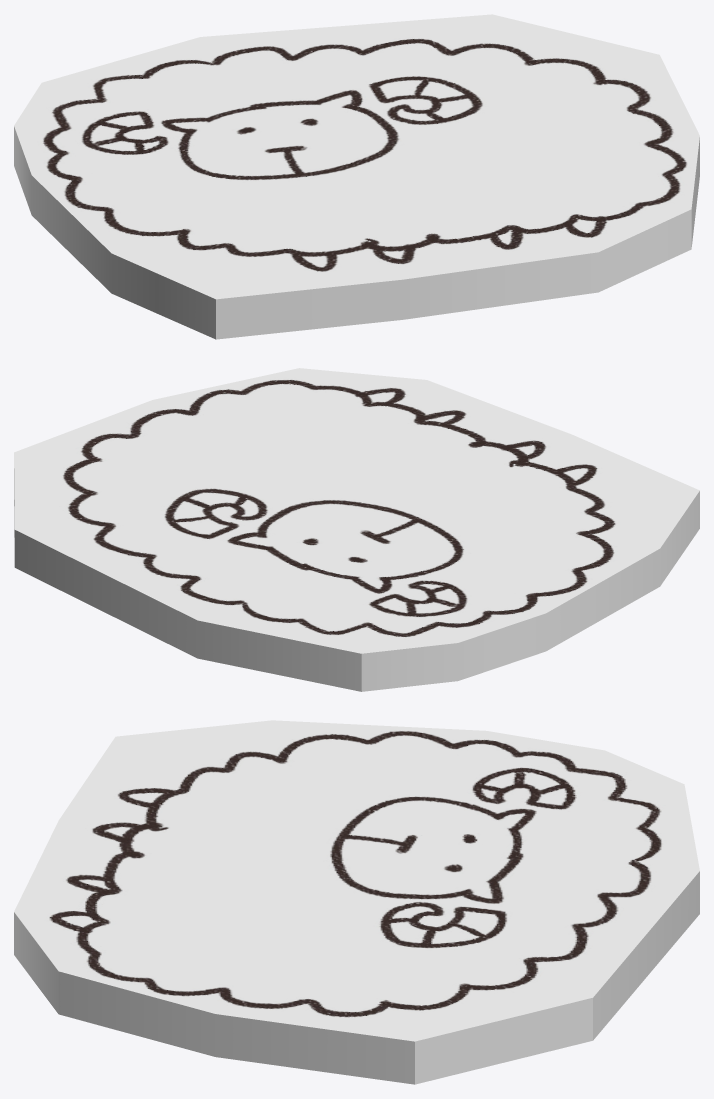
Rendered from plate.dae.
The picture shows the model from 3 angles, top to bottom: view 1: azimuth 30°, elevation 25°; view 2: azimuth 150°, elevation 25°; view 3: azimuth 270°, elevation 25°; orthographic projection. The views are drawn at different scales.
Parts seen in each view (by area): view 1: ポリゴンメッシュ; view 2: ポリゴンメッシュ; view 3: ポリゴンメッシュ.
Boxes of the visible parts, box(x1,y1,x2,y2) form: ポリゴンメッシュ: box(14, 14, 699, 339); ポリゴンメッシュ: box(14, 368, 699, 691); ポリゴンメッシュ: box(14, 720, 699, 1084).
Size of the model in its own units: 160 by 10 by 144.
Materials: 1 (1 with a texture image).
